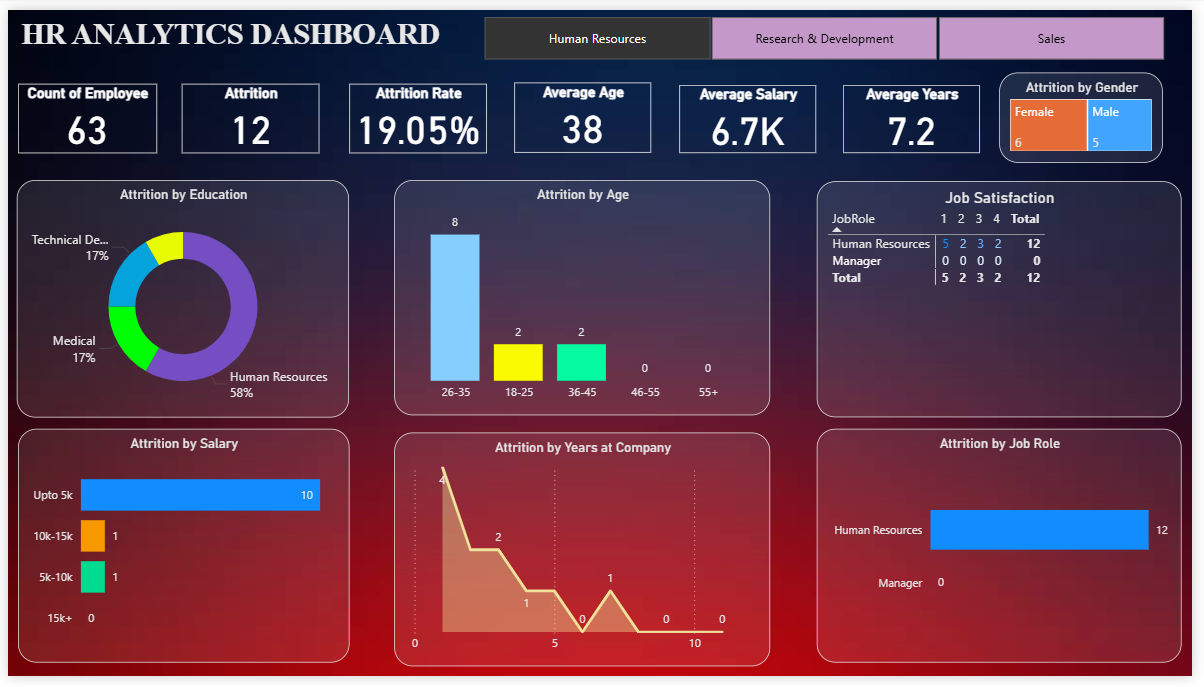

This screenshot's page, from the dashboard's own definition file:
{"tool":"powerbi","page":{"name":"Page 1","canvas":[1280,720],"ordinal":0},"visuals":[{"type":"card","title":"Count of Employee","fields":{"Values":["CountNonNull(HR_Analytics.EmpID)"]},"box":[10.3,79.1,150,75],"z":0},{"type":"card","title":"Attrition","fields":{"Values":["select","Sum(HR_Analytics.AttritionCount)"]},"box":[187.8,79.1,149,75.5],"z":1000},{"type":"card","title":"Attrition Rate","fields":{"Values":["HR_Analytics.AttritionRate"]},"box":[369.5,79.1,149,75.5],"z":2000},{"type":"card","title":"Average Age","fields":{"Values":["Avg(HR_Analytics.Age)"]},"box":[546.8,79,148.4,76],"z":3000},{"type":"card","title":"Average Years","fields":{"Values":["Avg(HR_Analytics.YearsAtCompany)"]},"box":[902.7,81.4,148.4,73.6],"z":4000},{"type":"card","title":"Average Salary","fields":{"Values":["Avg(HR_Analytics.MonthlyIncome)"]},"box":[725.4,81.4,148.4,73.6],"z":5000},{"type":"donutChart","title":"Attrition by Education","fields":{"Category":["HR_Analytics.EducationField"],"Y":["Sum(HR_Analytics.AttritionCount)"]},"box":[9.5,183.8,359.5,256.8],"z":6000},{"type":"columnChart","title":"Attrition by Age","fields":{"Category":["HR_Analytics.AgeGroup"],"Y":["Sum(HR_Analytics.AttritionCount)"]},"box":[417.6,183.8,406.8,254.1],"z":7000},{"type":"pivotTable","title":"Job Satisfaction","fields":{"Rows":["HR_Analytics.JobRole"],"Columns":["HR_Analytics.JobSatisfaction"],"Values":["Sum(HR_Analytics.AttritionCount)"]},"box":[874.3,185.1,394.6,255.4],"z":8000},{"type":"barChart","title":"Attrition by Salary","fields":{"Category":["HR_Analytics.SalarySlab"],"Y":["Sum(HR_Analytics.AttritionCount)"]},"box":[10.8,452.7,358.1,252.7],"z":9000},{"type":"barChart","title":"Attrition by Job Role","fields":{"Y":["Sum(HR_Analytics.AttritionCount)"],"Category":["HR_Analytics.JobRole"]},"box":[874.3,452.7,394.6,252.7],"z":10000},{"type":"areaChart","title":"Attrition by Years at Company","fields":{"Category":["HR_Analytics.YearsAtCompany"],"Y":["Sum(HR_Analytics.AttritionCount)"]},"box":[417.6,456.8,406.8,252.7],"z":11000},{"type":"treemap","title":"Attrition by Gender","fields":{"Group":["HR_Analytics.Gender"],"Values":["Sum(HR_Analytics.AttritionCount)"]},"box":[1071.6,67.6,177,97.3],"z":12000},{"type":"slicer","fields":{"Values":["HR_Analytics.Department"]},"box":[494.6,5.4,774.3,50],"z":13000},{"type":"textbox","box":[9.5,2.7,508.1,64.9],"z":14000}]}

Visuals, with their boxes in screenshot pixels (x1, y1, x2, y2), scaled from the page's 1280x720 canvas onto the 1204x687 screenshot:
"Count of Employee" card: select_region(10, 75, 151, 147)
"Attrition" card: select_region(177, 75, 317, 148)
"Attrition Rate" card: select_region(348, 75, 488, 148)
"Average Age" card: select_region(514, 75, 654, 148)
"Average Years" card: select_region(849, 78, 989, 148)
"Average Salary" card: select_region(682, 78, 822, 148)
"Attrition by Education" donutChart: select_region(9, 175, 347, 420)
"Attrition by Age" columnChart: select_region(393, 175, 775, 418)
"Job Satisfaction" pivotTable: select_region(822, 177, 1194, 420)
"Attrition by Salary" barChart: select_region(10, 432, 347, 673)
"Attrition by Job Role" barChart: select_region(822, 432, 1194, 673)
"Attrition by Years at Company" areaChart: select_region(393, 436, 775, 677)
"Attrition by Gender" treemap: select_region(1008, 65, 1174, 157)
slicer - HR_Analytics.Department: select_region(465, 5, 1194, 53)
textbox: select_region(9, 3, 487, 65)
